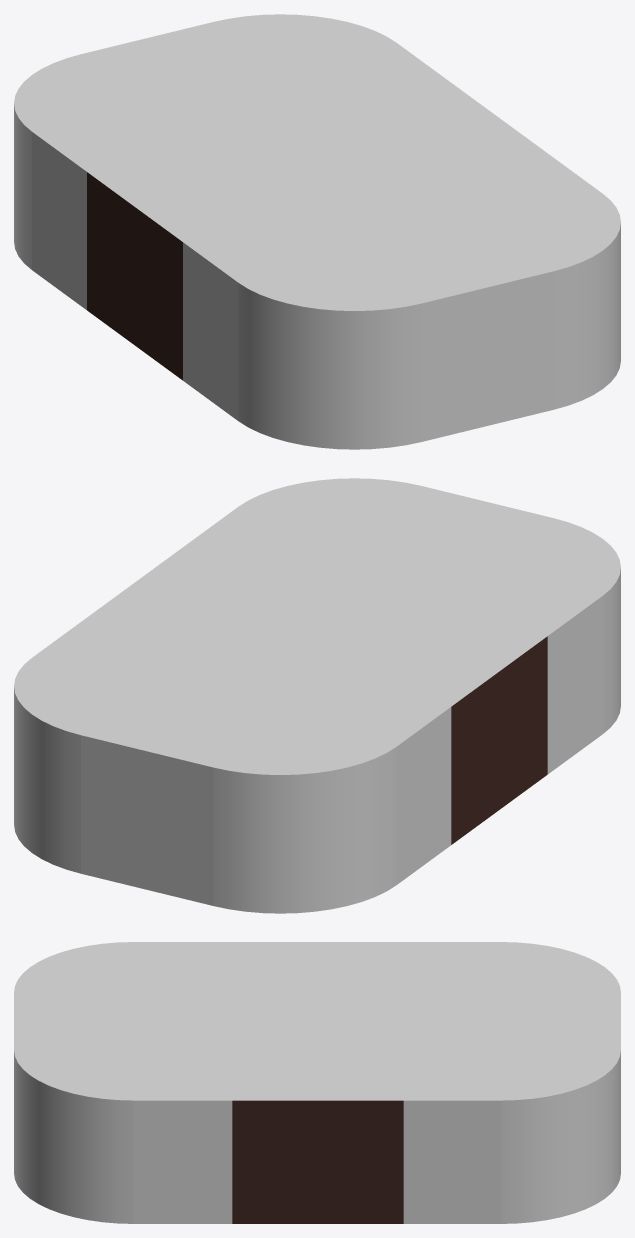
File: sushiEgg.GLB
3 views of the same model, one above another, from view 1: azimuth 30°, elevation 25°; view 2: azimuth 150°, elevation 25°; view 3: azimuth 270°, elevation 25° (orthographic). The views are drawn at different scales.
Parts seen in each view (by area): view 1: sushiEgg; view 2: sushiEgg; view 3: sushiEgg.
Part boxes in pixels (box(x1,y1,x2,y2)): sushiEgg: box(14, 14, 620, 449); sushiEgg: box(14, 478, 620, 913); sushiEgg: box(14, 942, 620, 1223).
Bounding box in the file's own units: 0.1079 × 0.0392 × 0.1746.
